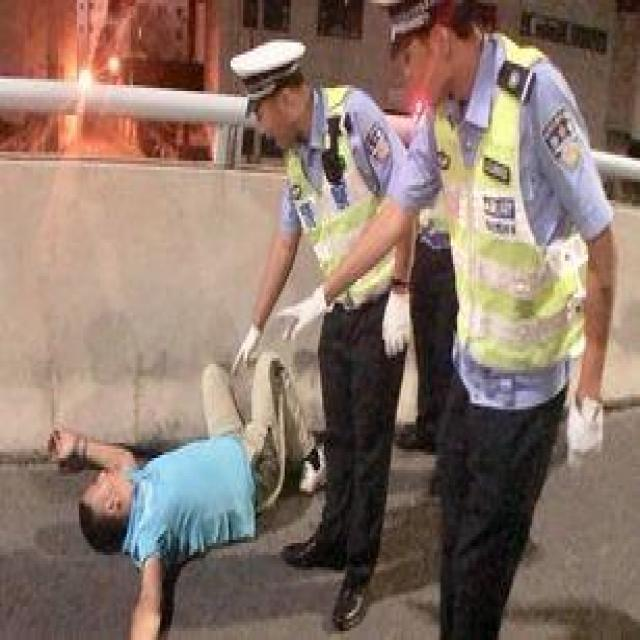fall: (45, 318, 328, 637)
